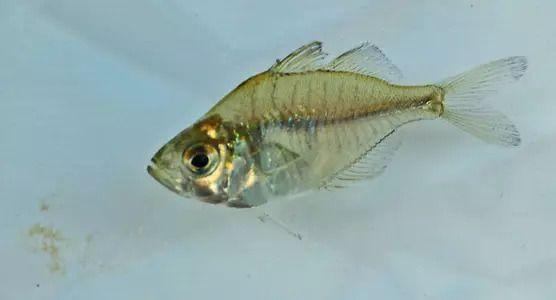Glass Perchlet: (147, 38, 529, 239)
